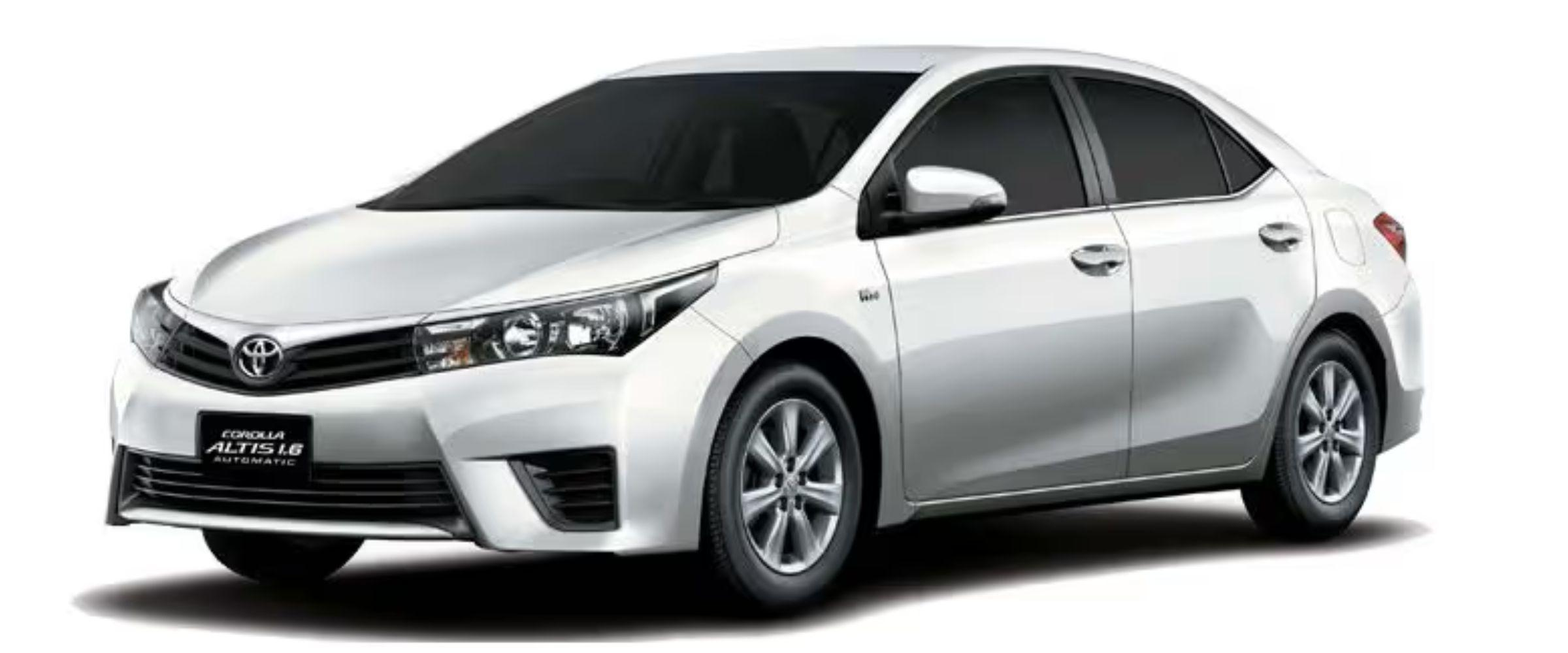Sedan: (105, 39, 1433, 594)
